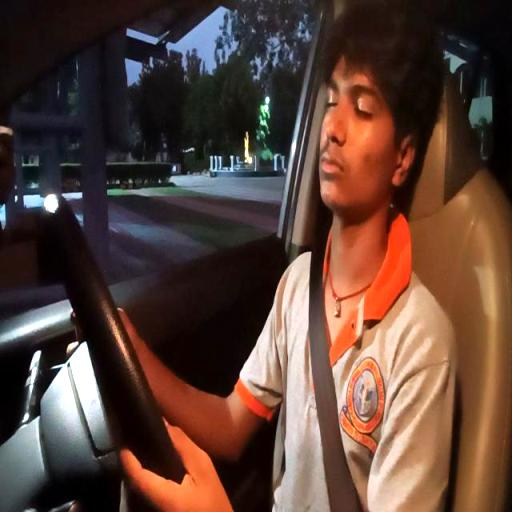sleepy: (317, 0, 423, 240)
